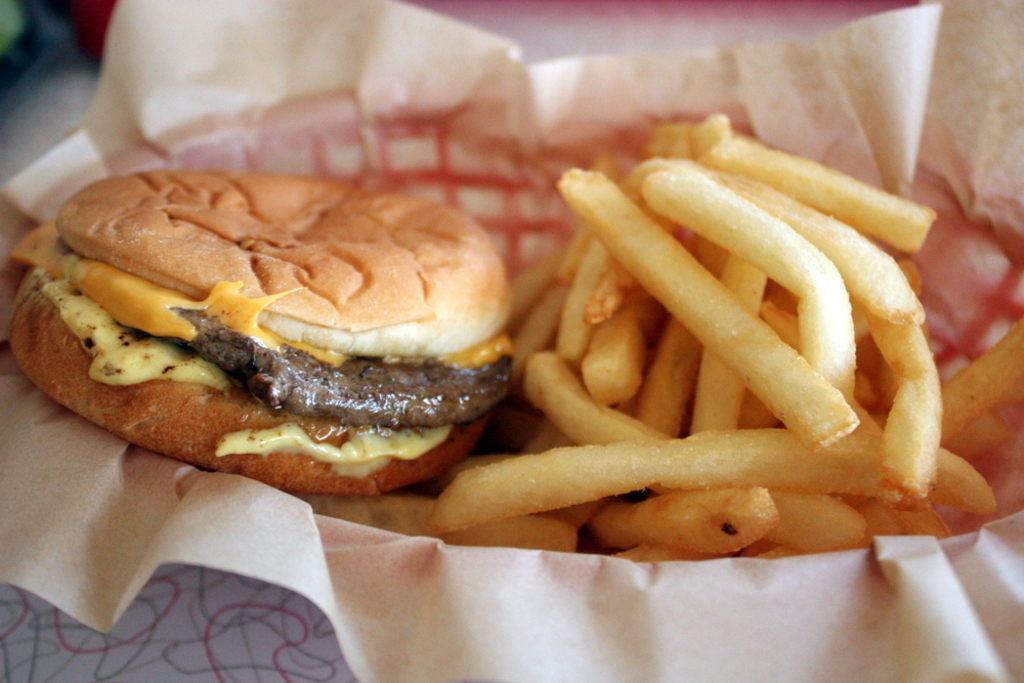French fries: (288, 97, 1022, 575)
